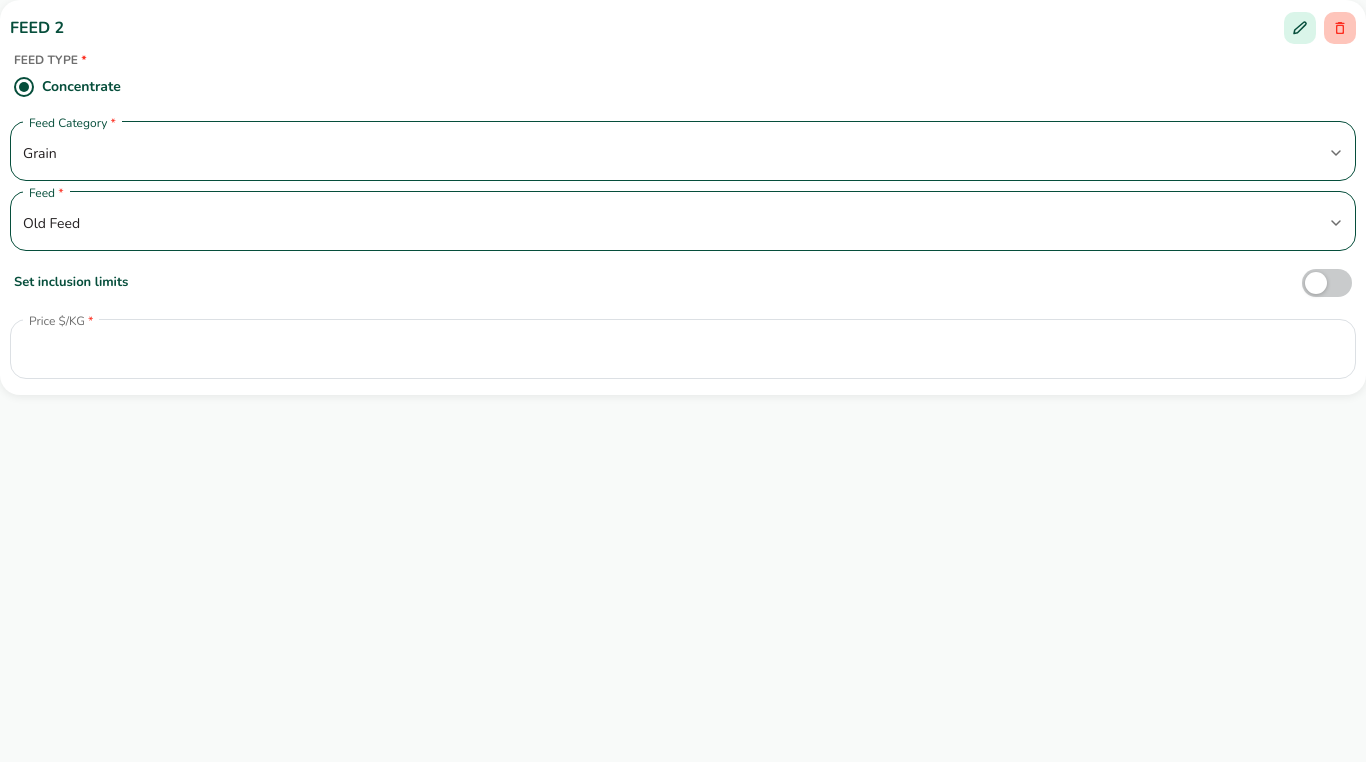
Scenario: edit dialog — insert path (§10.8 regression guard) › calls insertCustomFeed and the new feed becomes the SELECTED option, not a placeholder fallback
expect the button "Old Feed" is shown: met, box x1=23 y1=212 x2=1343 y2=234
Click the button named "Edit feed nutritional values" at {"x": 1300, "y": 28}, box x1=1284 y1=12 x2=1316 y2=44
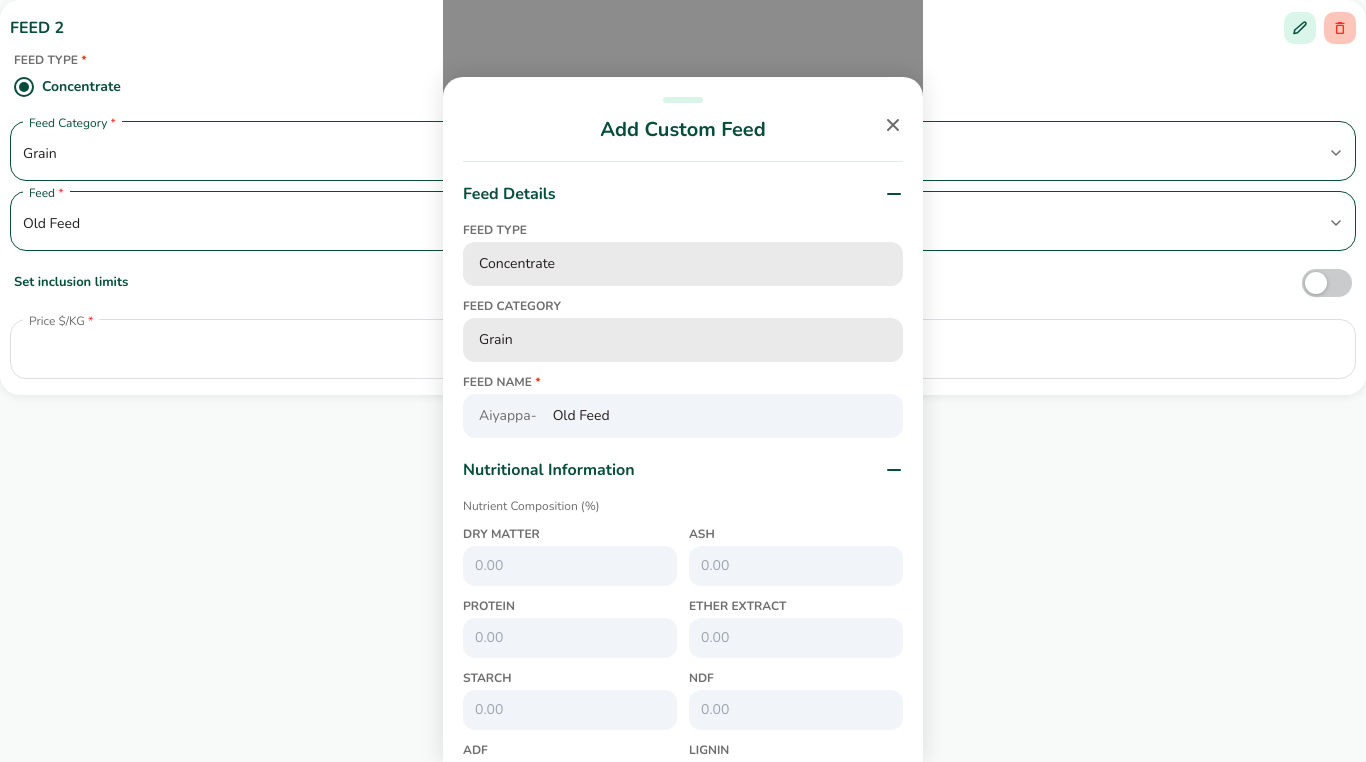
expect the heading "Add Custom Feed" is shown: met, box x1=600 y1=116 x2=766 y2=143
expect the field named "Feed Name" is enabled: met
Replace the text in the field named "Feed Name" with "NewCustomFeed" at {"x": 722, "y": 416}, box x1=541 y1=394 x2=903 y2=438
(page scrolled)
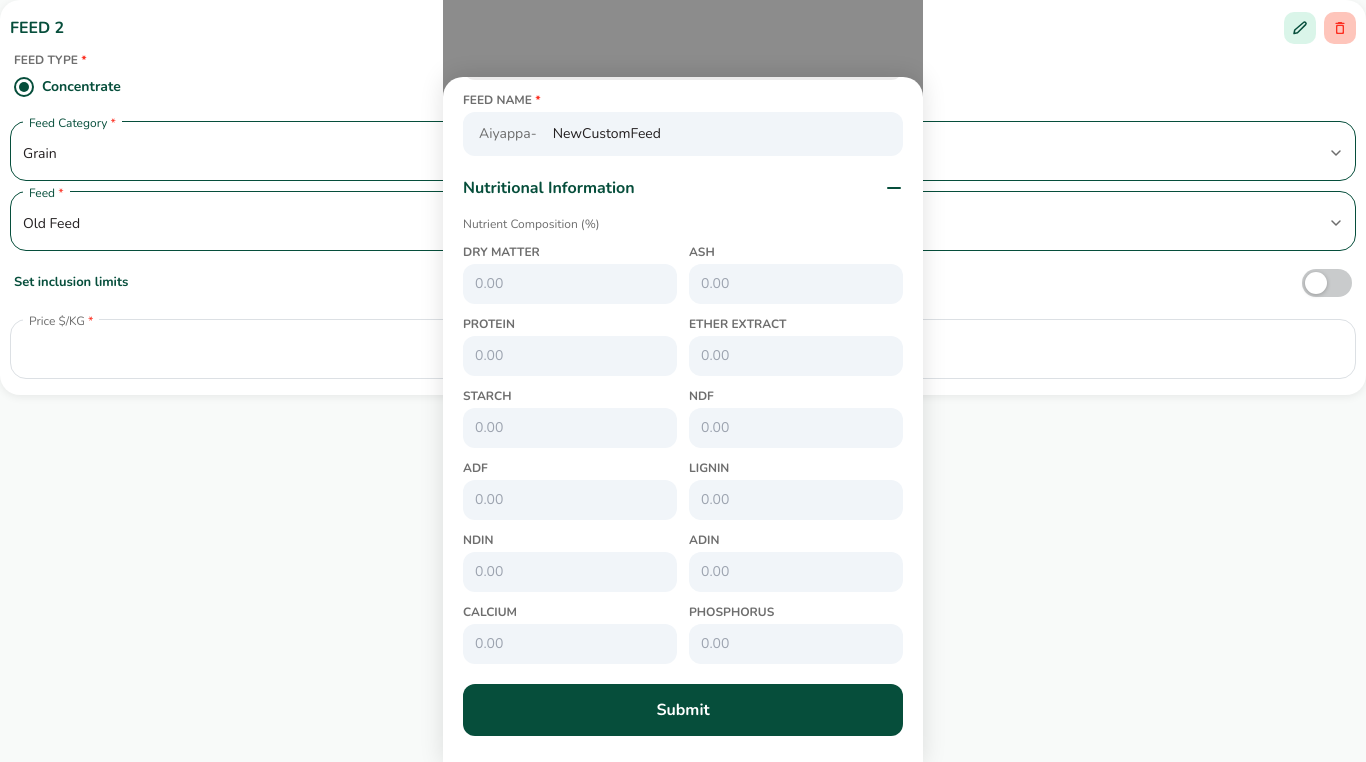
Click the button "Submit" at {"x": 683, "y": 710}, box x1=463 y1=684 x2=903 y2=736
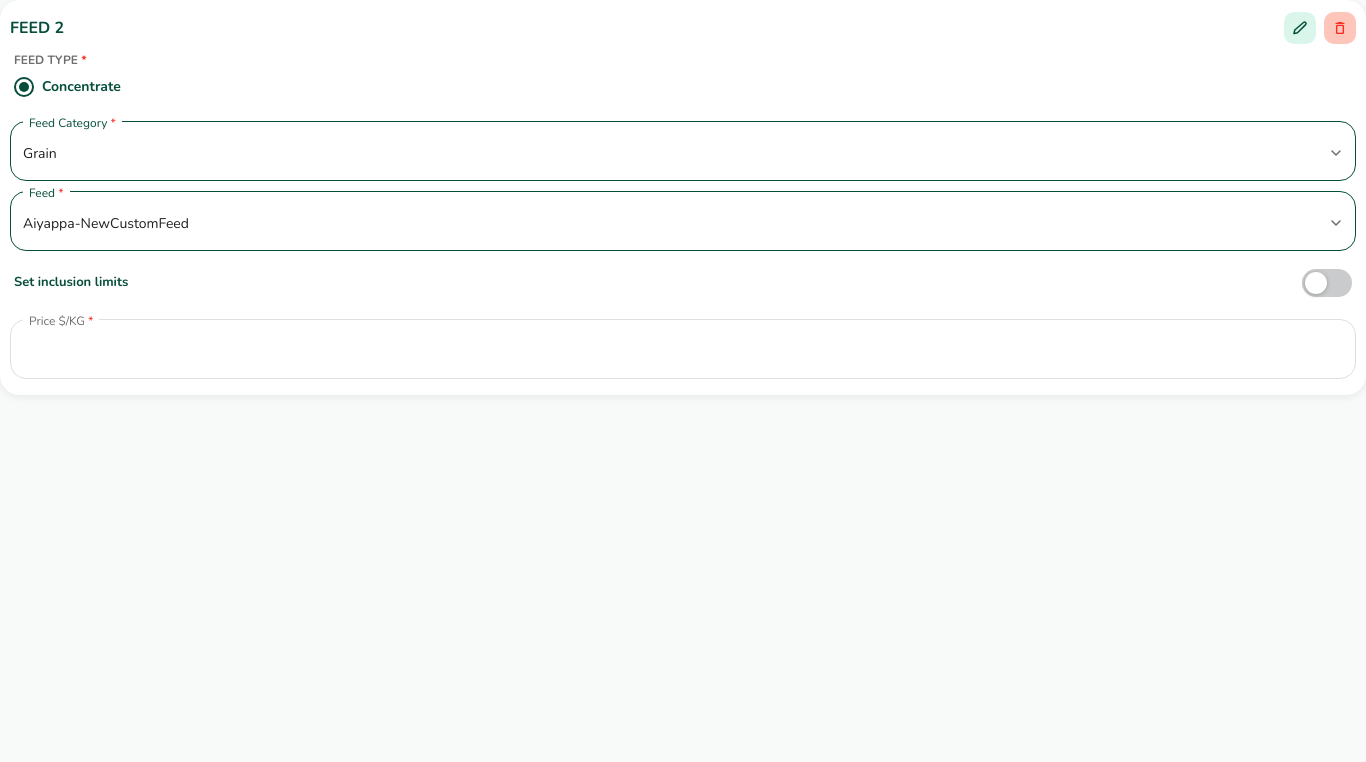
expect the text "Aiyappa-NewCustomFeed" is shown: met, box x1=23 y1=214 x2=189 y2=232
expect the button "Aiyappa-NewCustomFeed" is shown: met, box x1=23 y1=212 x2=1343 y2=234
